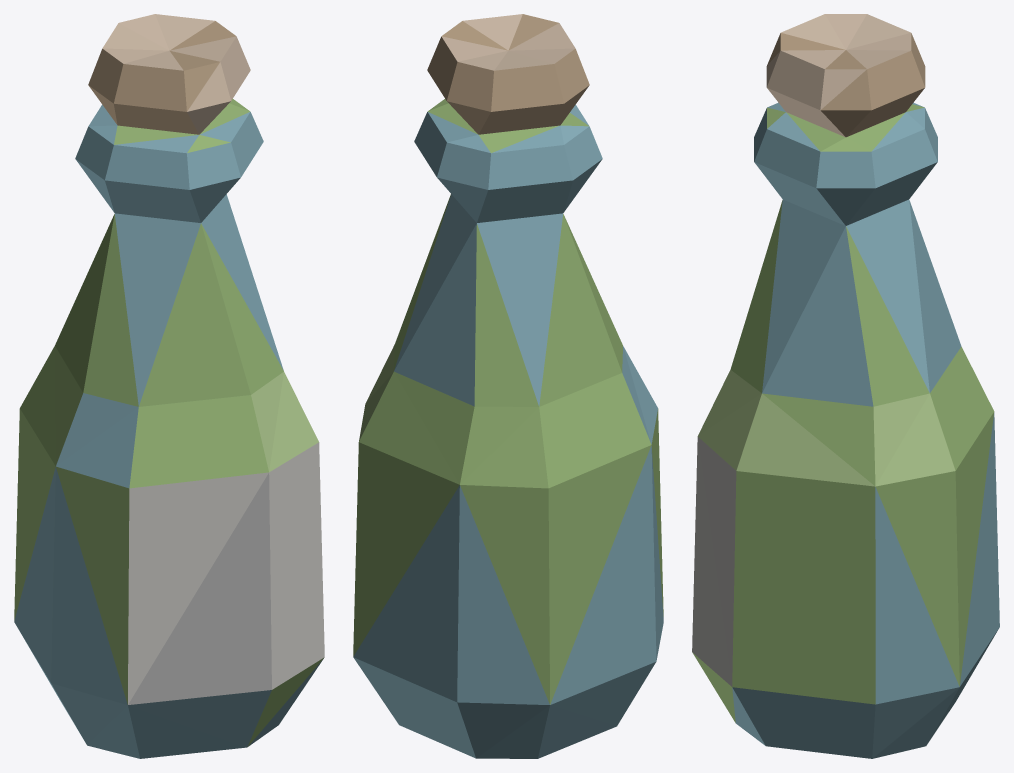
The picture shows the model from 3 angles, left to right: view 1: azimuth 30°, elevation 25°; view 2: azimuth 150°, elevation 25°; view 3: azimuth 270°, elevation 25°; orthographic projection.
Parts seen in each view (by area): view 1: model; view 2: model; view 3: model.
Part boxes in pixels (x1=…): model: x1=14, y1=14, x2=324, y2=758; model: x1=353, y1=14, x2=663, y2=758; model: x1=692, y1=14, x2=999, y2=758.
Bounding box in the file's own units: 0.2579 × 0.62 × 0.2579.
